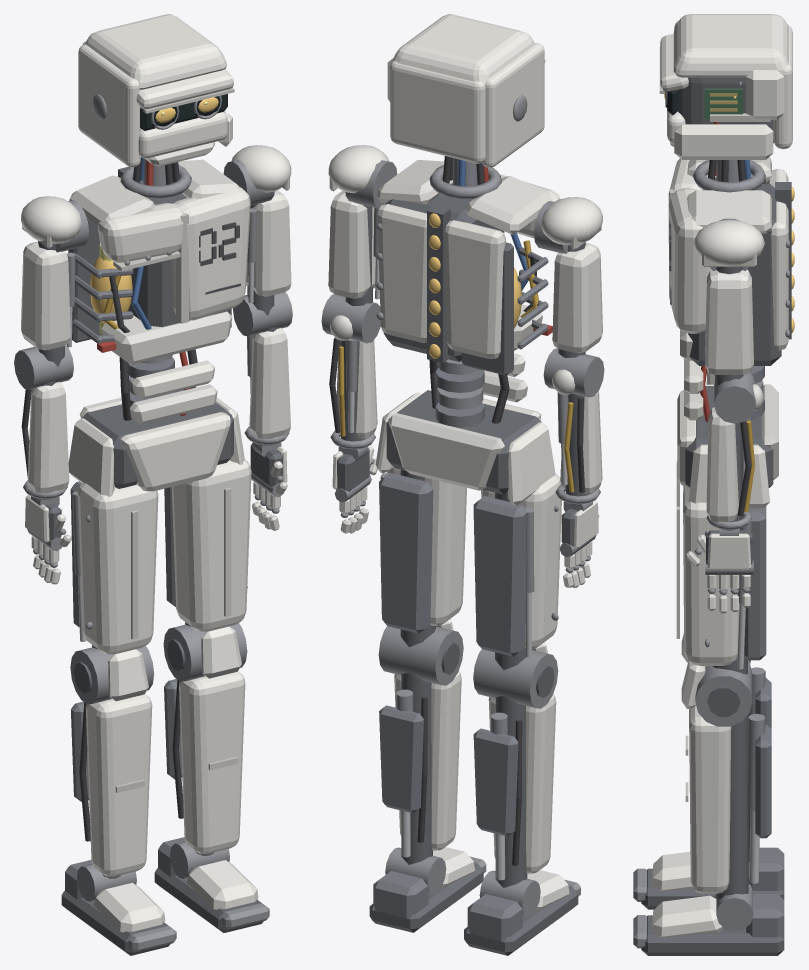
The model's file is unit02.glb.
The picture shows the model from 3 angles, left to right: view 1: azimuth 30°, elevation 25°; view 2: azimuth 150°, elevation 25°; view 3: azimuth 270°, elevation 25°; orthographic projection. The views are drawn at different scales.
Visible parts, largest first — view 1: ceramic.004, ceramic, ceramic.002, ceramic.006, ceramic.012, ceramic.034, ceramic.008, ceramic.036, ceramic.026, ceramic.019, ceramic.027, ceramic*0.005 (+43 smaller); view 2: frame*1.4, ceramic.035, frame*1.003, ceramic.015, ceramic.014, ceramic.034, ceramic*0.9, ceramic.036, ceramic.002, ceramic.026, ceramic.006, ceramic (+43 smaller); view 3: ceramic.002, ceramic.034, ceramic, ceramic.018, ceramic.012, ceramic.038, frame.009, frame.002, ceramic.019, frame.003, ceramic*0.008, frame*1.4 (+40 smaller).
Boxes of the visible parts, x1,y1,x2,y2 form: ceramic.004: [78, 483, 158, 654]; ceramic: [171, 459, 251, 631]; ceramic.002: [179, 671, 245, 853]; ceramic.006: [85, 694, 152, 876]; ceramic.012: [171, 187, 250, 320]; ceramic.034: [84, 14, 226, 89]; ceramic.008: [121, 412, 230, 491]; ceramic.036: [78, 44, 140, 167]; ceramic.026: [21, 241, 70, 350]; ceramic.019: [249, 328, 290, 439]; ceramic.027: [27, 382, 69, 493]; ceramic*0.005: [101, 311, 232, 364]; frame*1.4: [379, 473, 433, 633]; ceramic.035: [390, 61, 485, 163]; frame*1.003: [473, 496, 526, 656]; ceramic.015: [445, 220, 505, 358]; ceramic.014: [377, 204, 426, 342]; ceramic.034: [392, 14, 534, 85]; ceramic*0.9: [388, 413, 504, 490]; ceramic.036: [482, 43, 544, 167]; ceramic.002: [394, 671, 461, 850]; ceramic.026: [552, 243, 602, 353]; ceramic.006: [488, 694, 556, 873]; ceramic: [386, 467, 466, 625]; ceramic.002: [689, 706, 731, 893]; ceramic.034: [673, 14, 788, 77]; ceramic: [683, 486, 739, 665]; ceramic.018: [705, 269, 753, 374]; ceramic.012: [668, 188, 711, 333]; ceramic.038: [674, 124, 773, 159]; frame.009: [688, 184, 781, 365]; frame.002: [715, 714, 748, 899]; ceramic.019: [706, 407, 738, 522]; frame.003: [641, 915, 784, 955]; ceramic*0.008: [687, 190, 771, 233]; frame*1.4: [744, 506, 766, 660].
Size of the model in its own units: 0.56 by 1.79 by 0.294.
